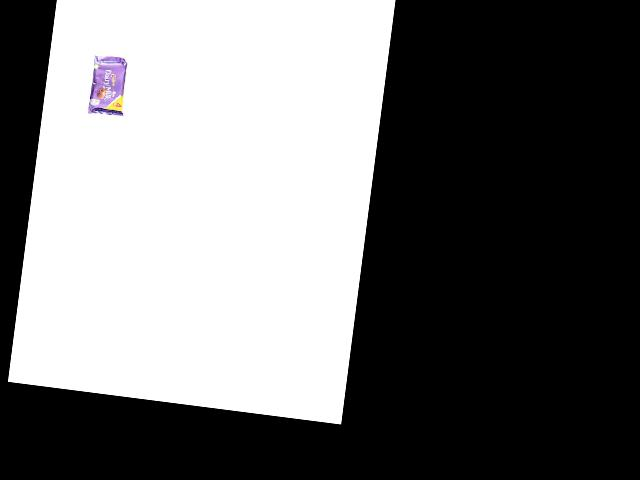chocolate: (81, 51, 130, 124)
